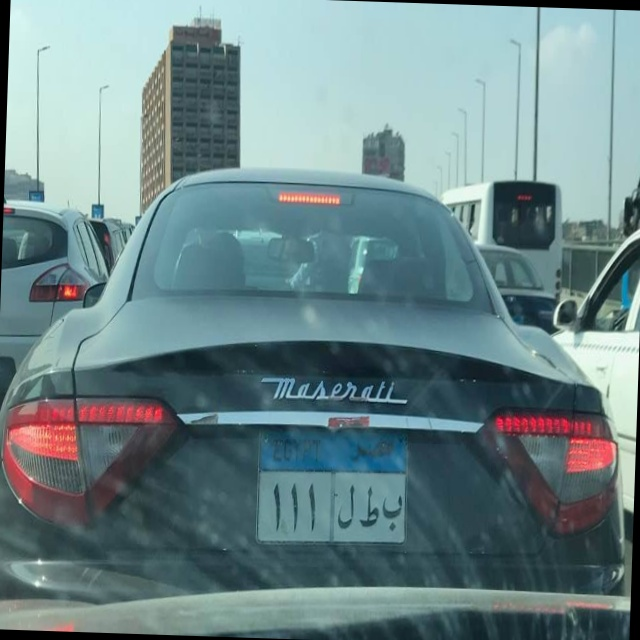License Plate: (250, 419, 416, 558)
